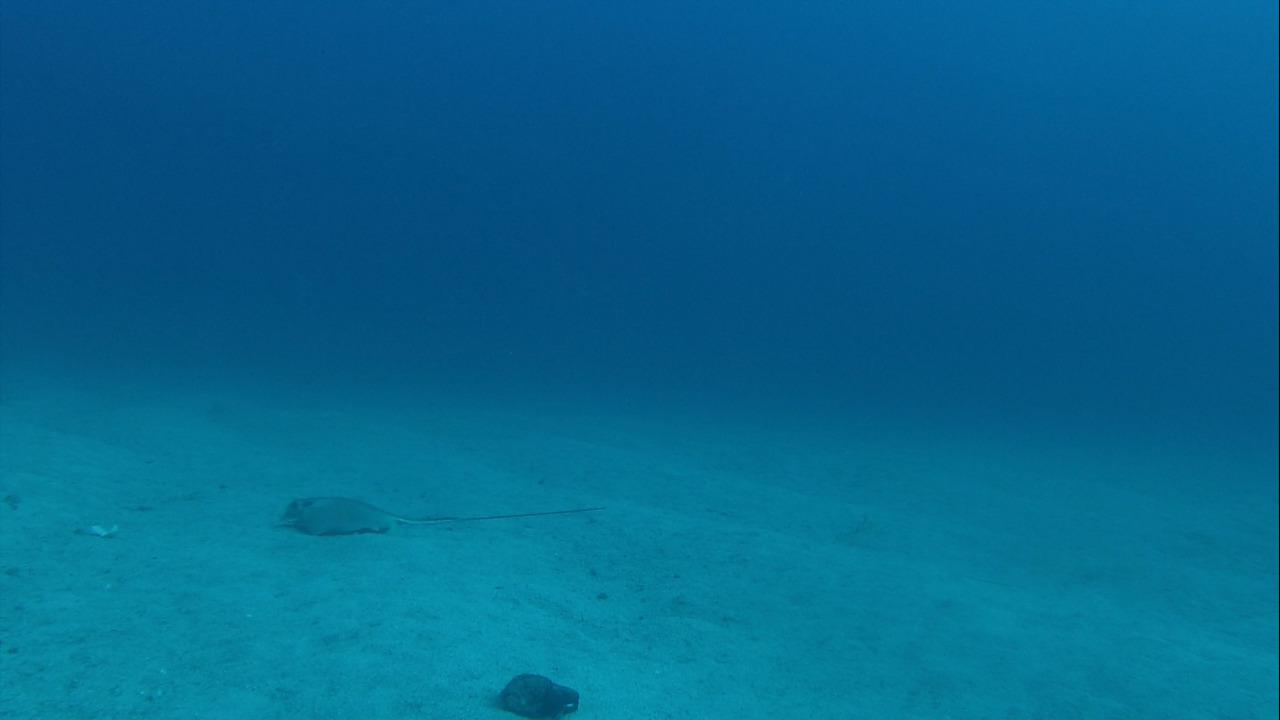myliobatis: (267, 489, 606, 538)
